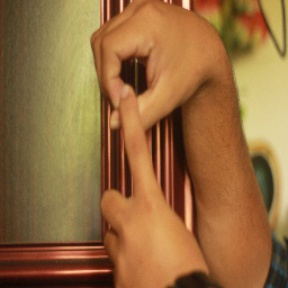Q: (84, 1, 219, 270)
